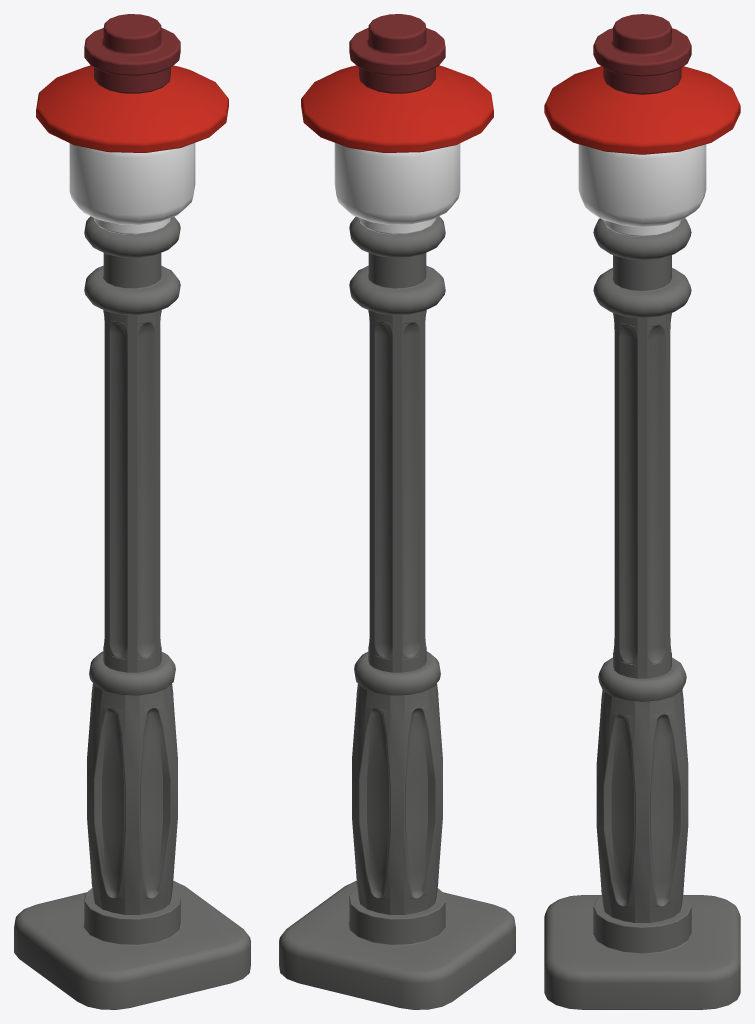
File: lamp.fbx
3 views of the same model, side by side, from view 1: azimuth 30°, elevation 25°; view 2: azimuth 150°, elevation 25°; view 3: azimuth 270°, elevation 25° (orthographic).
Visible parts, largest first — view 1: 00001_2039.dat, 00004_4740.dat, 00002_3626c.dat, 00003_6141.dat; view 2: 00001_2039.dat, 00004_4740.dat, 00002_3626c.dat, 00003_6141.dat; view 3: 00001_2039.dat, 00004_4740.dat, 00002_3626c.dat, 00003_6141.dat.
Part boxes in pixels (x1,y1,x2,y2): 00001_2039.dat: [14, 216, 250, 1009]; 00004_4740.dat: [36, 65, 228, 152]; 00002_3626c.dat: [69, 143, 195, 234]; 00003_6141.dat: [84, 14, 180, 93]; 00001_2039.dat: [279, 216, 515, 1009]; 00004_4740.dat: [301, 65, 493, 152]; 00002_3626c.dat: [334, 143, 460, 234]; 00003_6141.dat: [349, 14, 445, 93]; 00001_2039.dat: [544, 218, 740, 1009]; 00004_4740.dat: [544, 66, 740, 154]; 00002_3626c.dat: [578, 144, 706, 236]; 00003_6141.dat: [593, 14, 691, 94].
Size of the model in its own units: 40 by 212 by 40.
